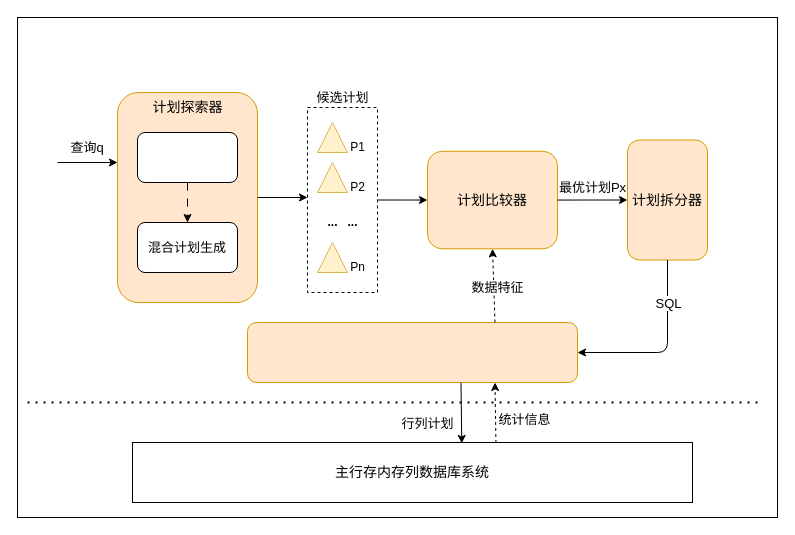
This 795x535 diagram has some shape labels left out. Each missing label, with the box of its shape:
数据库交互器: (246, 322, 578, 382)
逻辑计划改写: (136, 132, 238, 182)
